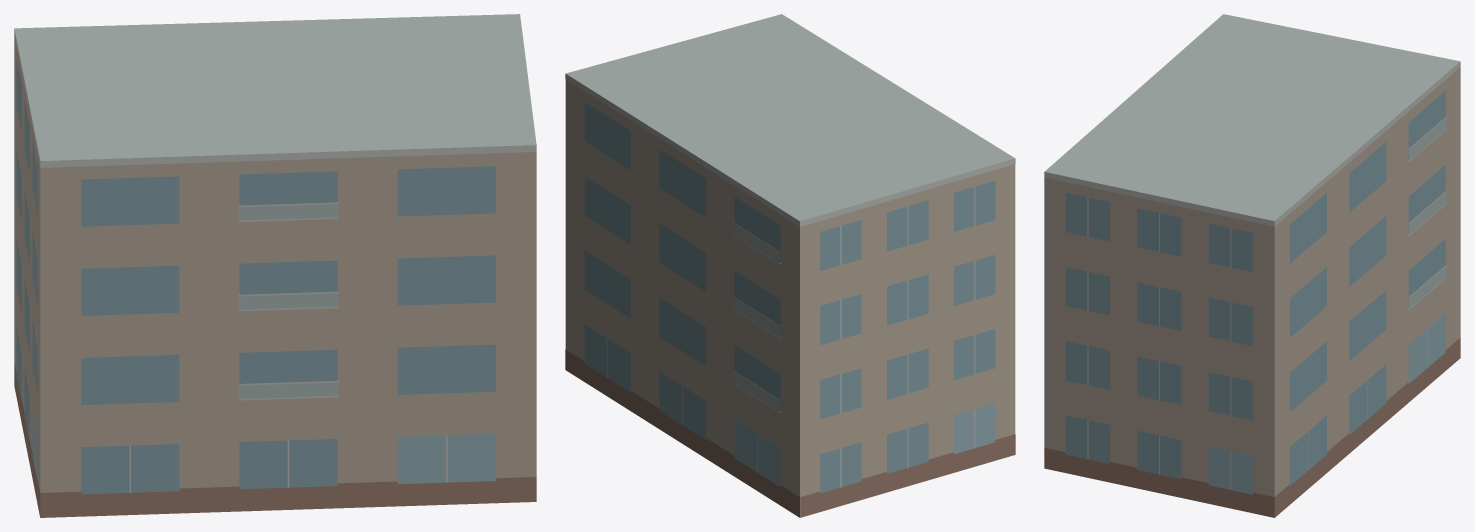
Rendered from survey-upis-32842164.glb.
3 views of the same model, side by side, from view 1: azimuth 30°, elevation 25°; view 2: azimuth 150°, elevation 25°; view 3: azimuth 270°, elevation 25° (orthographic). The views are drawn at different scales.
Visible parts, largest first — view 1: survey-upis-32842164.tmp; view 2: survey-upis-32842164.tmp; view 3: survey-upis-32842164.tmp.
Boxes of the visible parts, <box> form: survey-upis-32842164.tmp: <box>14,14,536,517</box>; survey-upis-32842164.tmp: <box>565,14,1015,517</box>; survey-upis-32842164.tmp: <box>1044,14,1460,517</box>.
Bounding box in the file's own units: 19.18 × 12.8 × 16.28.
